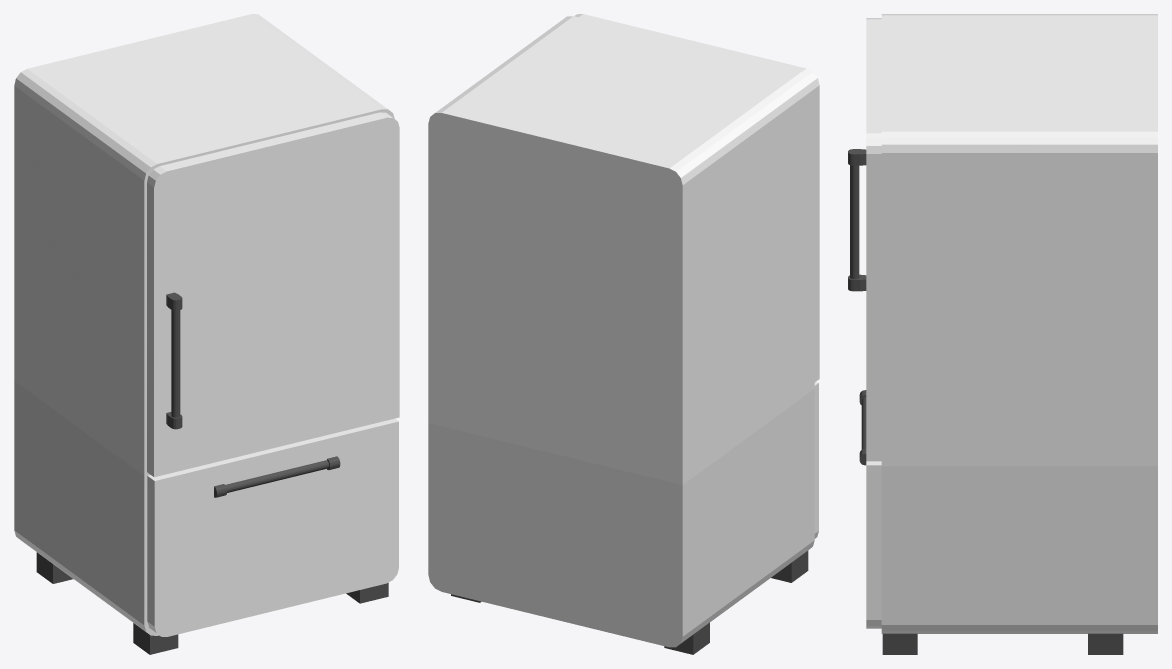
The model's file is Prop_Refrigerator_01.fbx.
3 renders of one model, left to right at view 1: azimuth 30°, elevation 25°; view 2: azimuth 150°, elevation 25°; view 3: azimuth 270°, elevation 25°, orthographic. The views are drawn at different scales.
Parts seen in each view (by area): view 1: Prop_Refrigerator_01; view 2: Prop_Refrigerator_01; view 3: Prop_Refrigerator_01.
Boxes of the visible parts, x1,y1,x2,y2 form: Prop_Refrigerator_01: [14, 14, 399, 654]; Prop_Refrigerator_01: [428, 14, 819, 654]; Prop_Refrigerator_01: [848, 14, 1157, 654].
Size of the model in its own units: 100 by 187 by 101.
